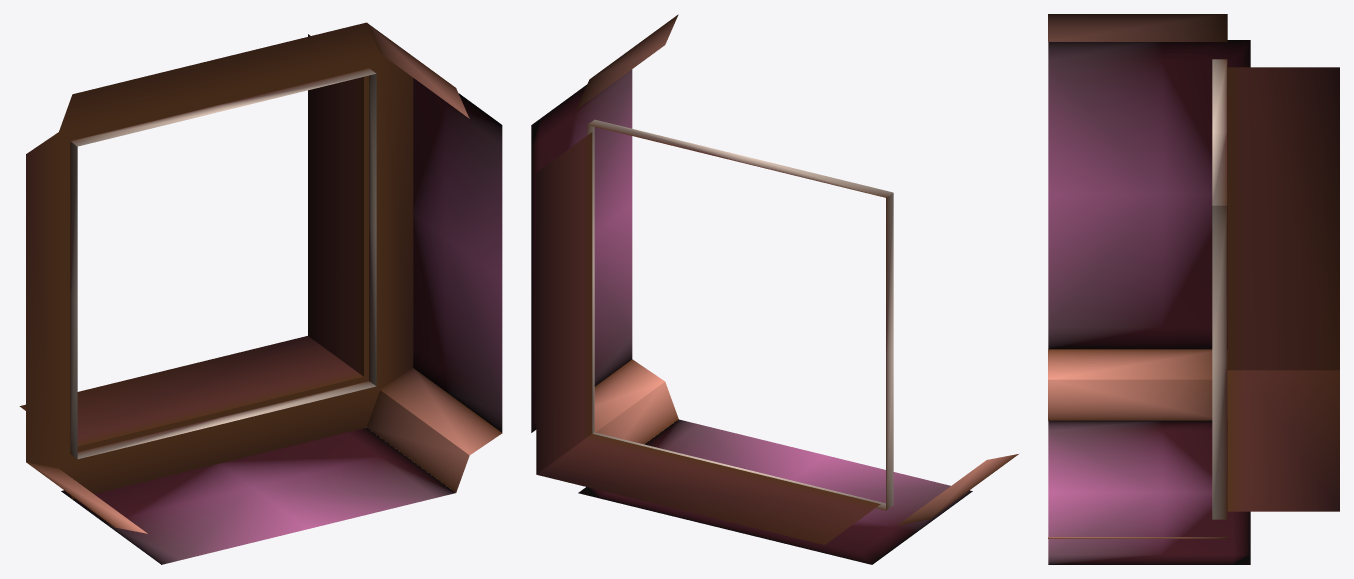
Rendered from room.glb.
3 views of the same model, side by side, from view 1: azimuth 30°, elevation 25°; view 2: azimuth 150°, elevation 25°; view 3: azimuth 270°, elevation 25° (orthographic).
Visible parts, largest first — view 1: Room, Walls, Gates; view 2: Room, Walls, Gates; view 3: Walls, Room, Gates.
Part boxes in pixels (left/top/right/bottom): Room: left=19, top=22, right=502, bottom=533; Walls: left=61, top=78, right=502, bottom=564; Gates: left=70, top=68, right=376, bottom=459; Room: left=536, top=14, right=1018, bottom=544; Walls: left=531, top=69, right=972, bottom=564; Gates: left=587, top=119, right=893, bottom=510; Walls: left=1048, top=40, right=1250, bottom=564; Room: left=1048, top=14, right=1339, bottom=538; Gates: left=1212, top=59, right=1227, bottom=519.
Bounding box in the file's own units: 6483 × 6483 × 4216.
